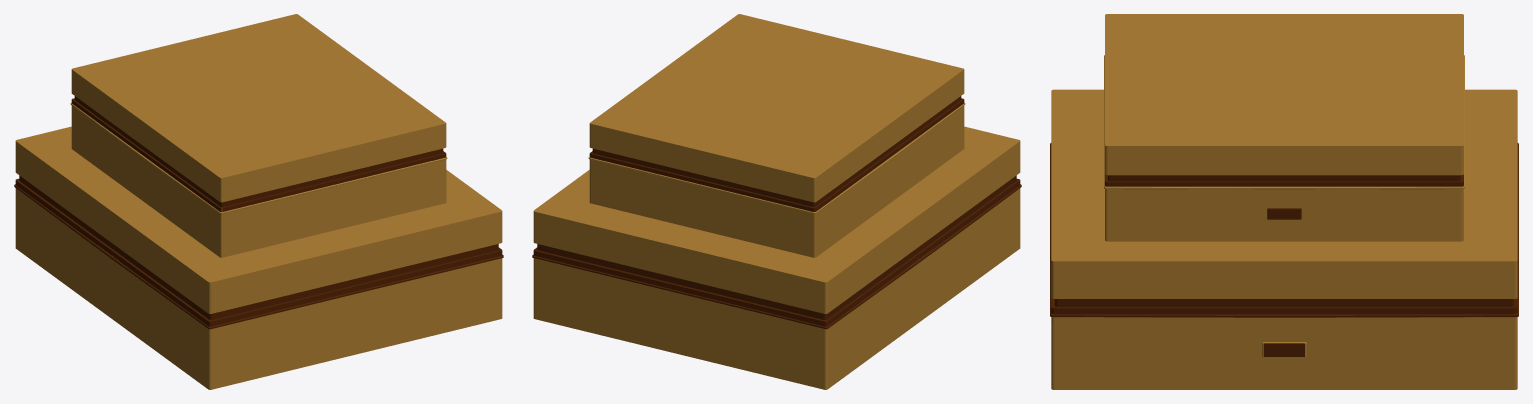
Rendered from koper_Scene.fbx.
3 renders of one model, left to right at view 1: azimuth 30°, elevation 25°; view 2: azimuth 150°, elevation 25°; view 3: azimuth 270°, elevation 25°, orthographic. The views are drawn at different scales.
Visible parts, largest first — view 1: Cube.030; view 2: Cube.030; view 3: Cube.030.
Part boxes in pixels (x1,y1,x2,y2): Cube.030: (14,14,503,389); Cube.030: (532,14,1021,389); Cube.030: (1050,14,1518,389).
Bounding box in the file's own units: 86.17 × 51.83 × 98.28.
